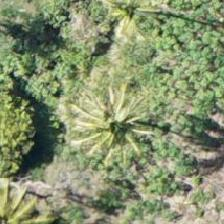coconut_tree: (62, 84, 152, 174), (0, 110, 62, 200), (85, 0, 175, 48)
